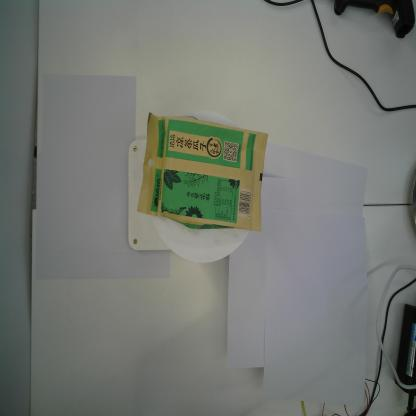Dried Food: (136, 111, 270, 235)
